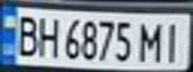5: (115, 17, 139, 63)
6: (60, 15, 84, 61)
7: (97, 17, 118, 62)
8: (78, 16, 100, 62)
B: (9, 11, 42, 57)
H: (33, 12, 60, 59)
I: (157, 18, 187, 63)
M: (136, 18, 166, 63)
